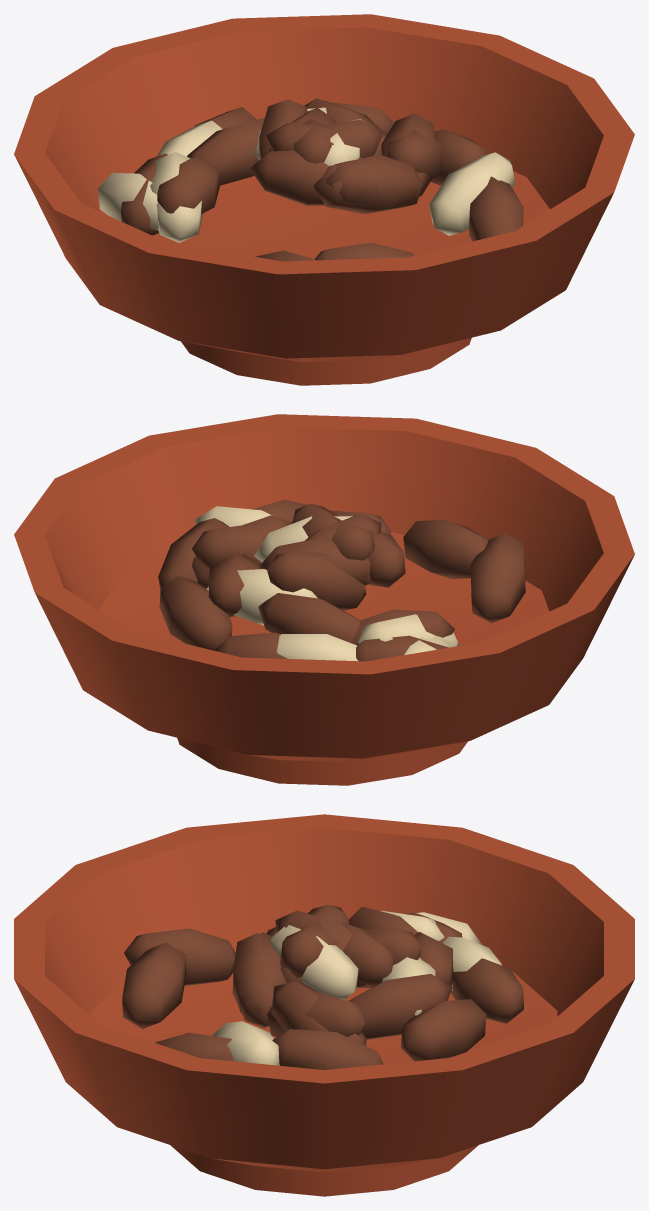
The model's file is pinhao_tigela.glb.
3 renders of one model, top to bottom at view 1: azimuth 30°, elevation 25°; view 2: azimuth 150°, elevation 25°; view 3: azimuth 270°, elevation 25°, orthographic. The views are drawn at different scales.
Visible parts, largest first — view 1: pinhao_tigela; view 2: pinhao_tigela; view 3: pinhao_tigela.
Part boxes in pixels (bbox=[...]): pinhao_tigela: bbox=[14, 14, 634, 385]; pinhao_tigela: bbox=[14, 414, 634, 785]; pinhao_tigela: bbox=[14, 814, 634, 1196].
Bounding box in the file's own units: 0.24 × 0.087 × 0.234.
